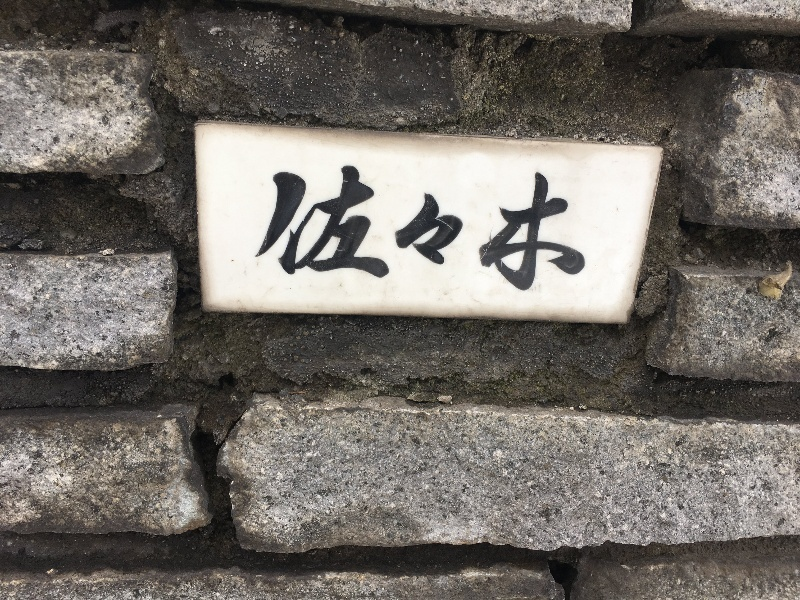text: (273, 165, 288, 297), (289, 165, 304, 297), (305, 165, 320, 297), (321, 165, 336, 297), (337, 165, 352, 297), (353, 165, 368, 297), (369, 165, 384, 297), (385, 165, 400, 297), (401, 165, 416, 297), (417, 165, 432, 297), (433, 165, 448, 297), (449, 165, 464, 297), (465, 165, 480, 297), (481, 165, 496, 297), (497, 165, 512, 297), (513, 165, 528, 297), (529, 165, 544, 297), (545, 165, 560, 297), (561, 165, 576, 297), (577, 165, 585, 297), (270, 165, 272, 297)
